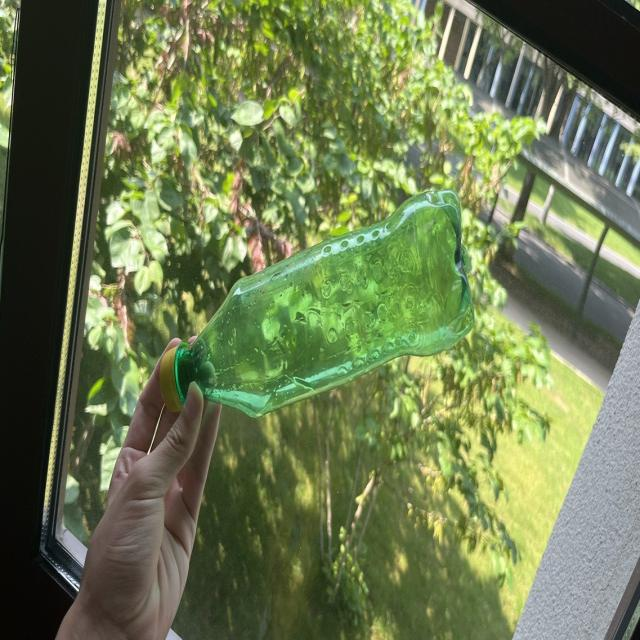empty: (160, 190, 473, 416)
